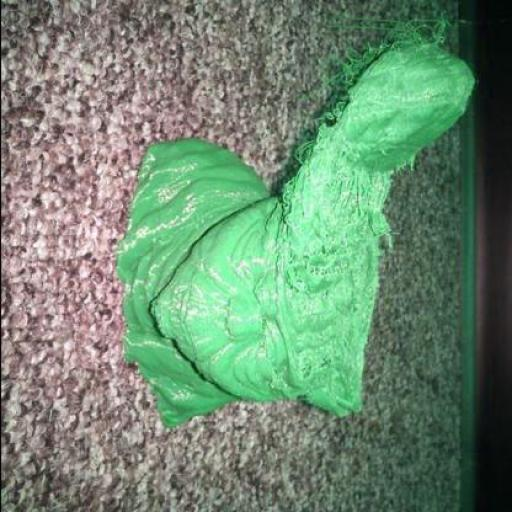spaghetti: (280, 22, 475, 449)
